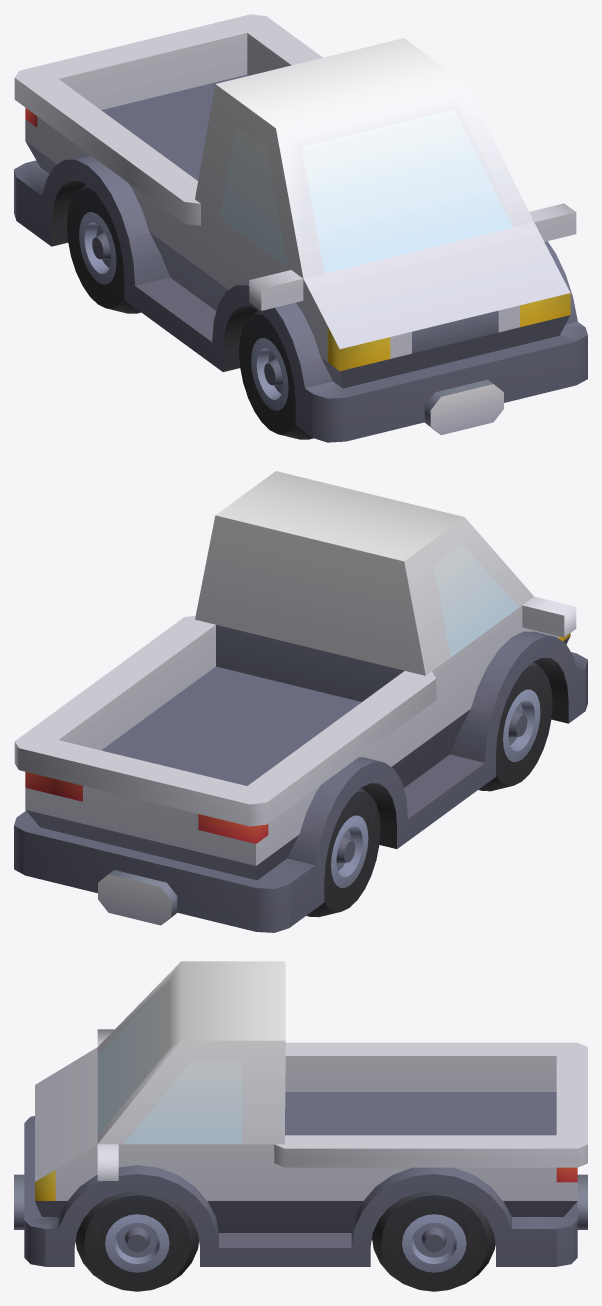
The model's file is flakbil.glb.
The picture shows the model from 3 angles, top to bottom: view 1: azimuth 30°, elevation 25°; view 2: azimuth 150°, elevation 25°; view 3: azimuth 270°, elevation 25°; orthographic projection. The views are drawn at different scales.
Parts seen in each view (by area): view 1: body, wheel-back-right, wheel-front-right; view 2: body, wheel-front-right, wheel-back-right; view 3: body, wheel-front-left, wheel-back-left.
Boxes of the visible parts, x1,y1,x2,y2 form: body: (14, 14, 587, 442); wheel-back-right: (67, 184, 140, 313); wheel-front-right: (239, 310, 313, 439); body: (14, 471, 587, 932); wheel-front-right: (478, 662, 552, 791); wheel-back-right: (306, 787, 380, 917); body: (14, 961, 587, 1266); wheel-front-left: (75, 1191, 198, 1291); wheel-back-left: (372, 1191, 495, 1291).
Bounding box in the file's own units: 1.5 × 1.3 × 2.75.
1 material, 1 textured.
